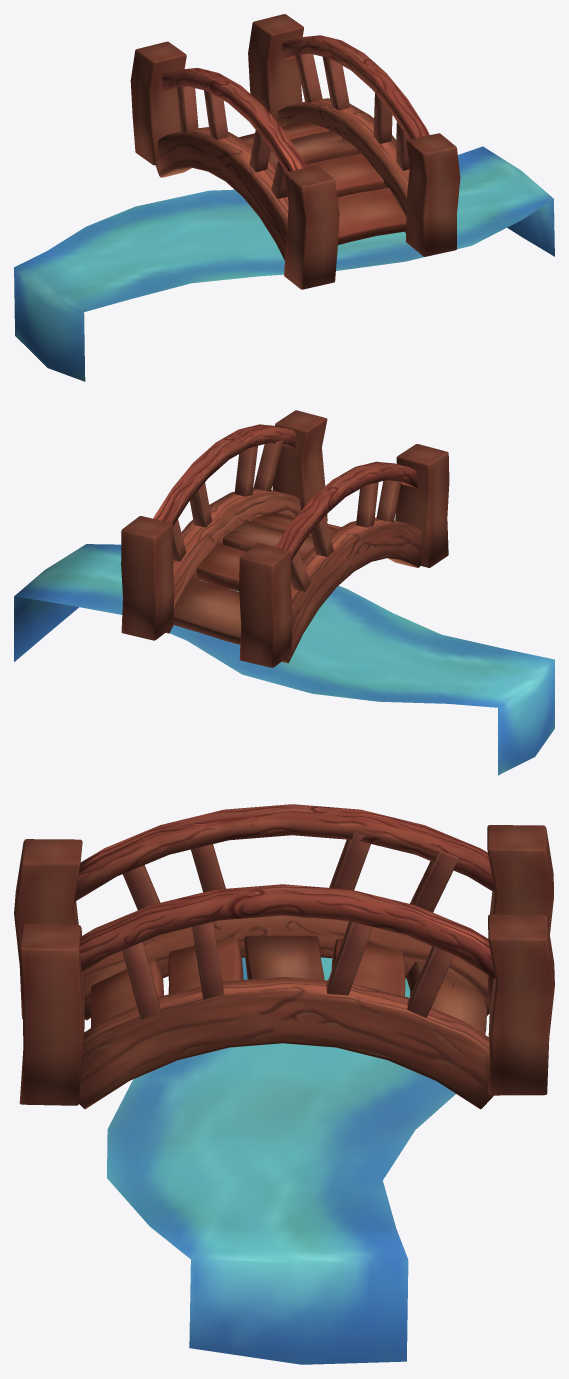
The model's file is BridgeAndRiver.fbx.
3 views of the same model, one above another, from view 1: azimuth 30°, elevation 25°; view 2: azimuth 150°, elevation 25°; view 3: azimuth 270°, elevation 25° (orthographic). The views are drawn at different scales.
Parts seen in each view (by area): view 1: Cylinder.001, Cube.007, Cube.002, Cube.001, Cube.003, Cube.006, Cube, Cube.011, Cube.012, Cube.005, Cube.008, Cube.004 (+8 smaller); view 2: Cylinder.001, Cube.007, Cube.003, Cube, Cube.002, Cube.006, Cube.001, Cube.011, Cube.012, Cube.010, Cube.009, Cube.004 (+8 smaller); view 3: Cylinder.001, Cube.006, Cube.011, Cube.012, Cube, Cube.001, Cube.007, Cube.003, Cube.002, Cube.004, Cube.008, Cube.009 (+10 smaller).
Boxes of the visible parts, box(x1,y1,x2,y2) form: Cylinder.001: box(14, 146, 554, 381); Cube.007: box(155, 127, 288, 260); Cube.002: box(284, 165, 339, 289); Cube.001: box(406, 133, 460, 256); Cube.003: box(130, 41, 186, 165); Cube.006: box(277, 98, 409, 233); Cube: box(248, 14, 303, 121); Cube.011: box(281, 35, 429, 139); Cube.012: box(161, 68, 306, 171); Cube.005: box(337, 188, 406, 244); Cube.008: box(306, 153, 383, 197); Cube.004: box(269, 131, 356, 168); Cylinder.001: box(14, 544, 554, 775); Cube.007: box(282, 517, 421, 663); Cube.003: box(239, 543, 292, 667); Cube: box(121, 516, 174, 640); Cube.002: box(395, 444, 449, 567); Cube.006: box(165, 488, 300, 633); Cube.001: box(272, 410, 327, 520); Cube.011: box(153, 424, 295, 525); Cube.012: box(275, 461, 417, 561); Cube.010: box(173, 578, 240, 644); Cube.009: box(196, 543, 246, 591); Cube.004: box(223, 520, 314, 559); Cylinder.001: box(107, 957, 455, 1364); Cube.006: box(79, 977, 493, 1109); Cube.011: box(79, 884, 495, 978); Cube.012: box(74, 804, 494, 901); Cube: box(488, 914, 554, 1095); Cube.001: box(19, 923, 84, 1105); Cube.007: box(84, 915, 489, 1020); Cube.003: box(487, 825, 553, 1005); Cube.002: box(14, 839, 82, 1019); Cube.004: box(244, 935, 324, 979); Cube.008: box(168, 936, 243, 994); Cube.009: box(331, 938, 405, 996).
Size of the model in its own units: 189 by 88.47 by 120.
1 material, 1 textured.
